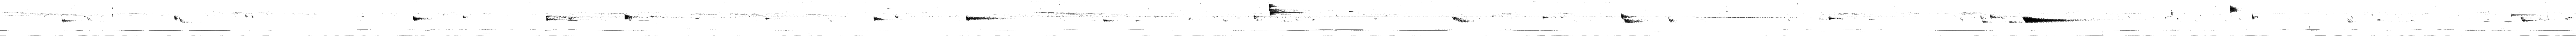meteor: (1268, 3, 1304, 16), (2022, 16, 2077, 23), (966, 16, 1000, 21), (545, 15, 567, 21), (2510, 13, 2537, 18), (1452, 16, 1470, 23), (2229, 5, 2241, 15), (412, 15, 429, 21), (1623, 18, 1643, 23), (2520, 16, 2537, 21), (1621, 13, 1636, 18), (61, 18, 74, 23), (1989, 15, 2003, 20), (872, 16, 884, 21), (624, 15, 634, 20), (179, 16, 186, 23), (1102, 18, 1114, 21), (1669, 18, 1676, 23), (1828, 16, 1838, 20), (2348, 18, 2354, 23), (1981, 20, 1988, 23), (174, 15, 177, 20)
